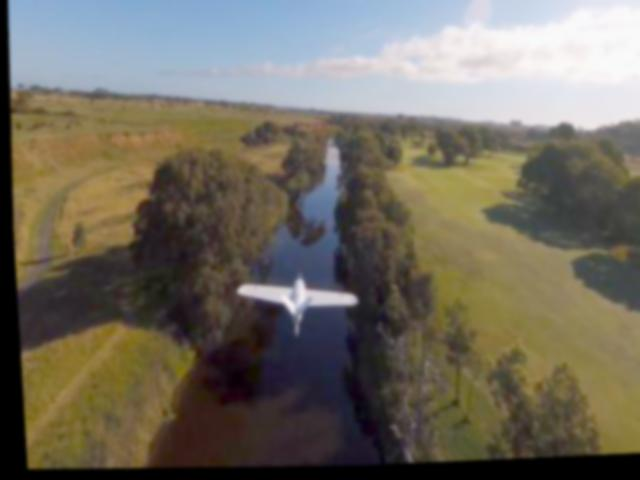uav: (230, 275, 357, 345)
